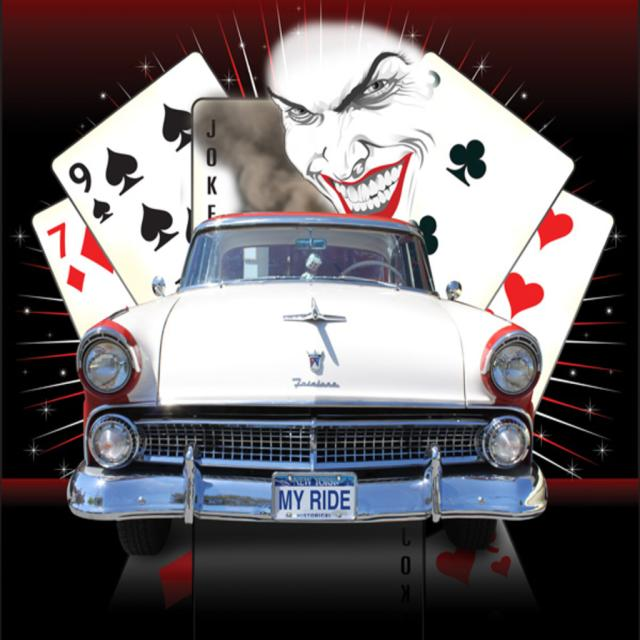car: (68, 212, 556, 553)
